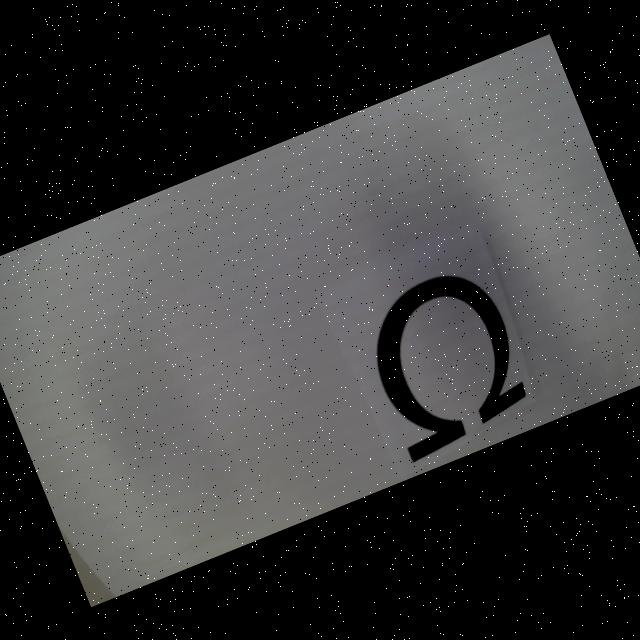OMEGA: (352, 260, 539, 462)
